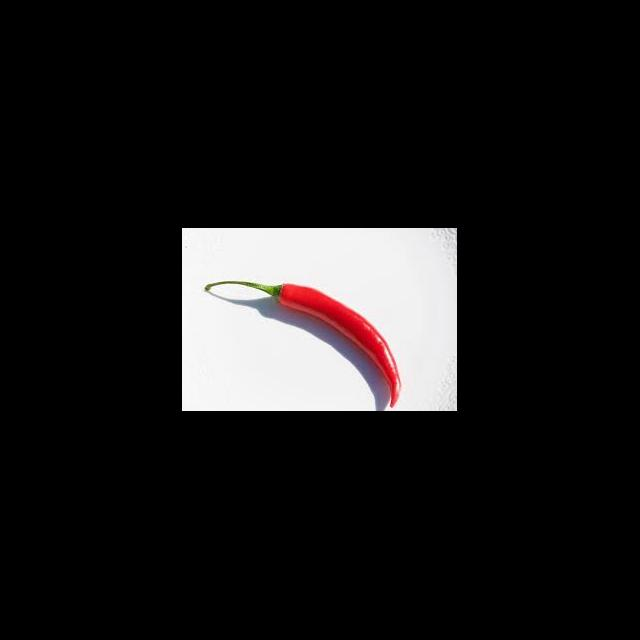chili_pepper: (277, 282, 403, 406)
